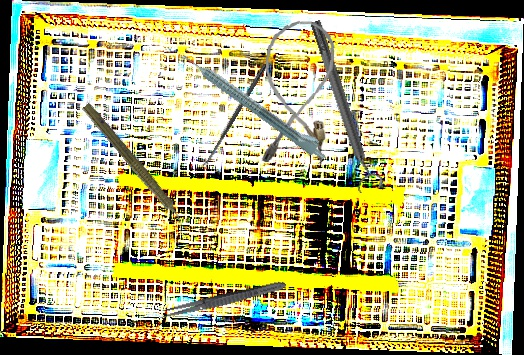Cannula: (257, 17, 337, 168)
Dressing Forceps: (157, 277, 288, 323)
Fixation Ring: (302, 16, 386, 195)
Handpiece: (179, 44, 333, 164), (77, 100, 194, 235)
Surgical Spoon: (200, 62, 268, 171)
